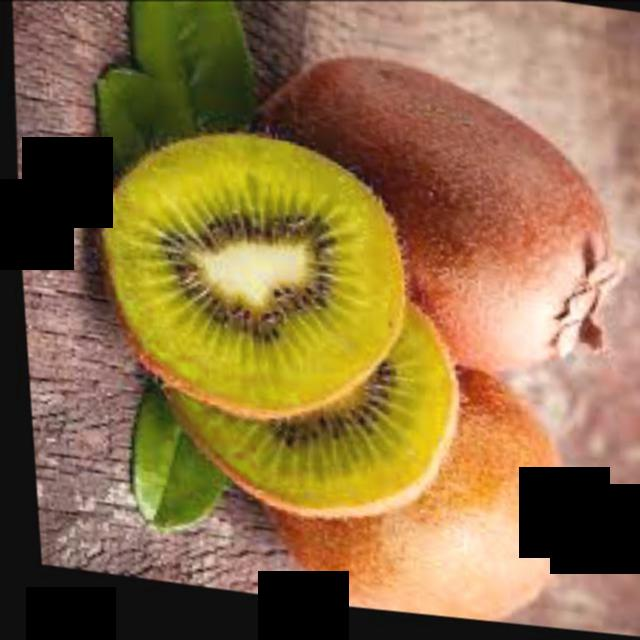kiwi: (290, 45, 622, 391), (246, 348, 611, 635)
